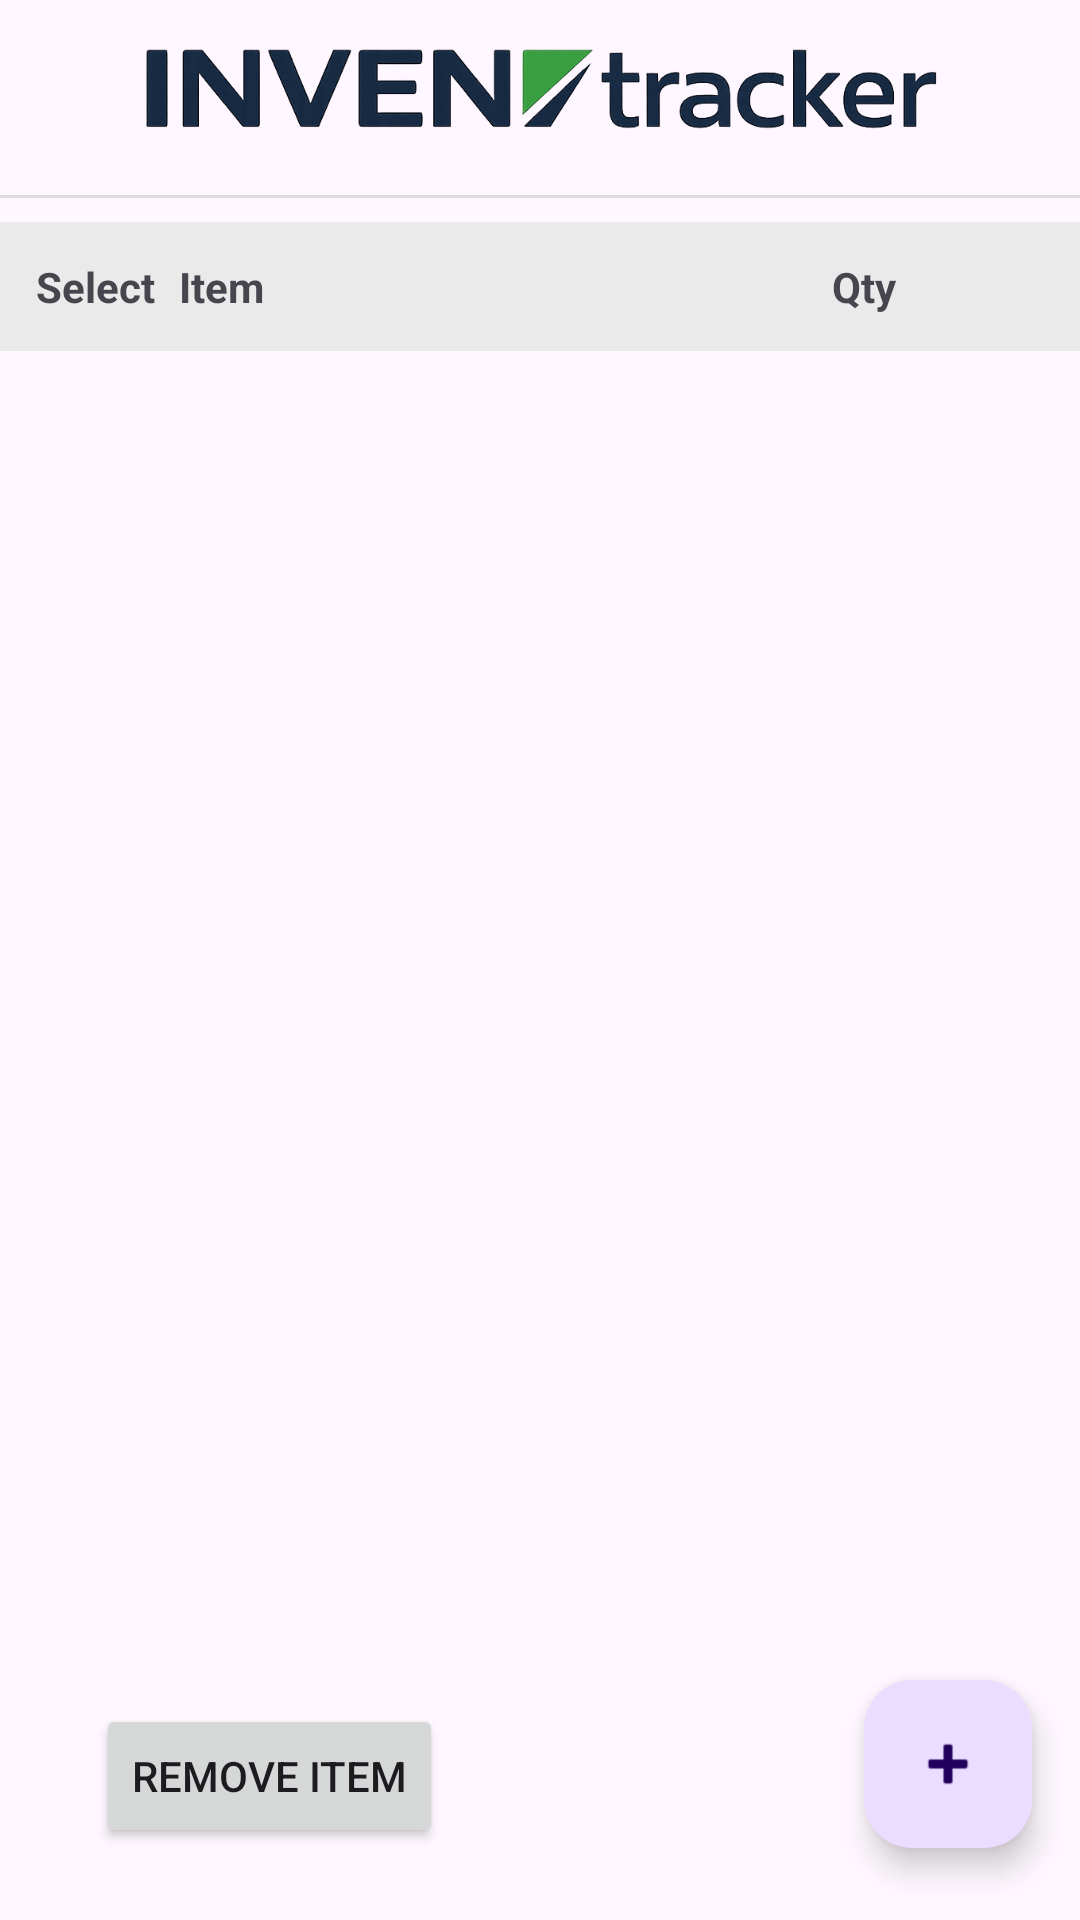

Icons on this 1080px×1920px Android screen, each with the point to tap as (x,y):
add: (948,1764)
